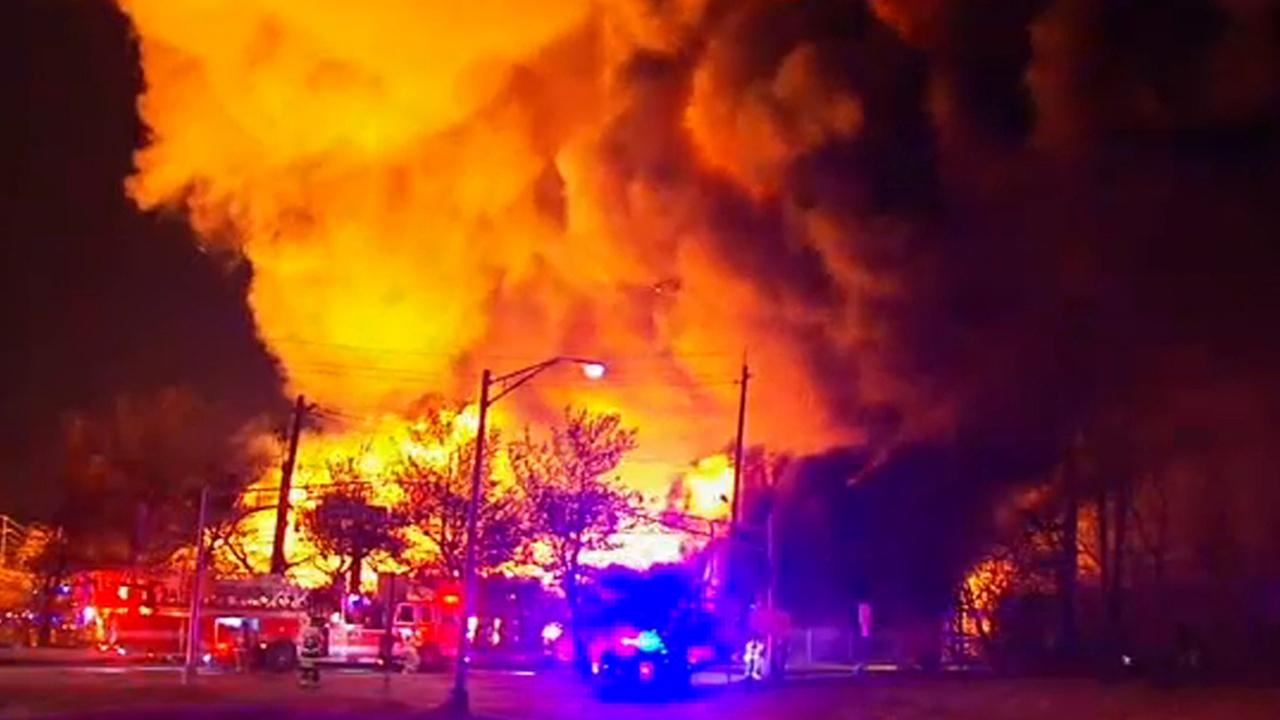Fire: (241, 385, 757, 601)
